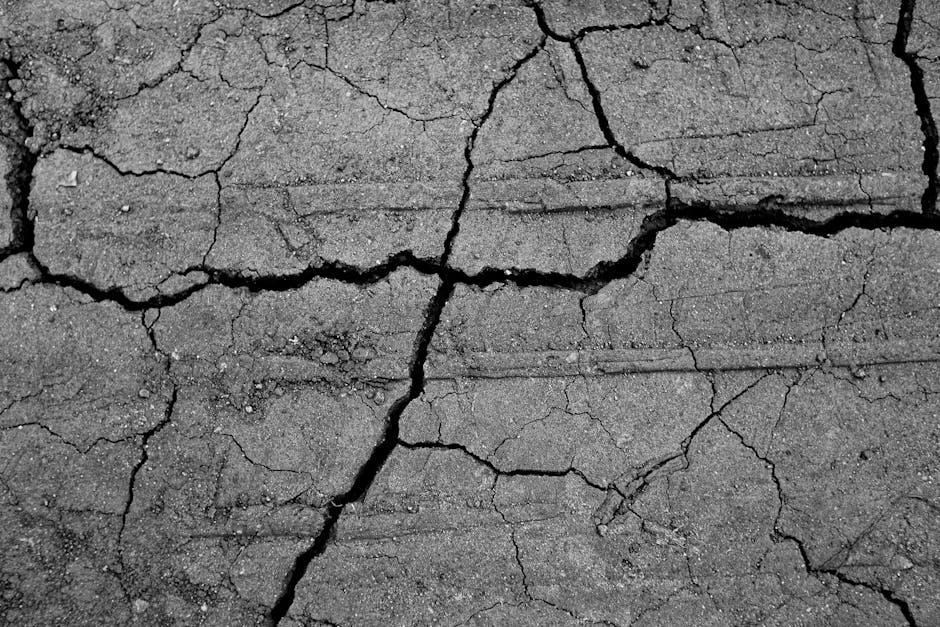深大裂缝: (19, 196, 919, 311)
细微裂纹: (726, 439, 931, 618)
网状裂隙: (6, 7, 547, 627)
